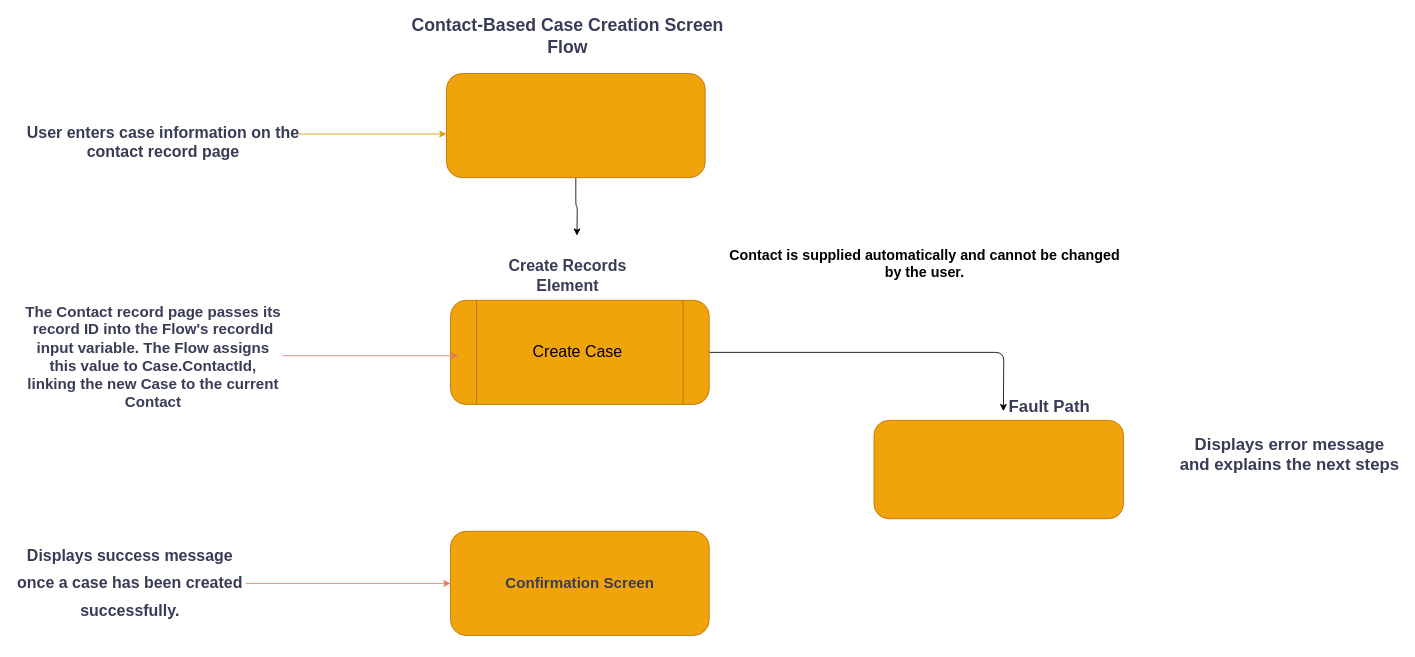
This 1415x657 diagram has some shape labels left out. The shapes that lost their labels are listed below. From the top down, each one's box as (x1, y1, x2, y2) in pixels, then its label:
(446, 73, 705, 178): User Interface Input case information
(873, 420, 1124, 519): Error Screen
